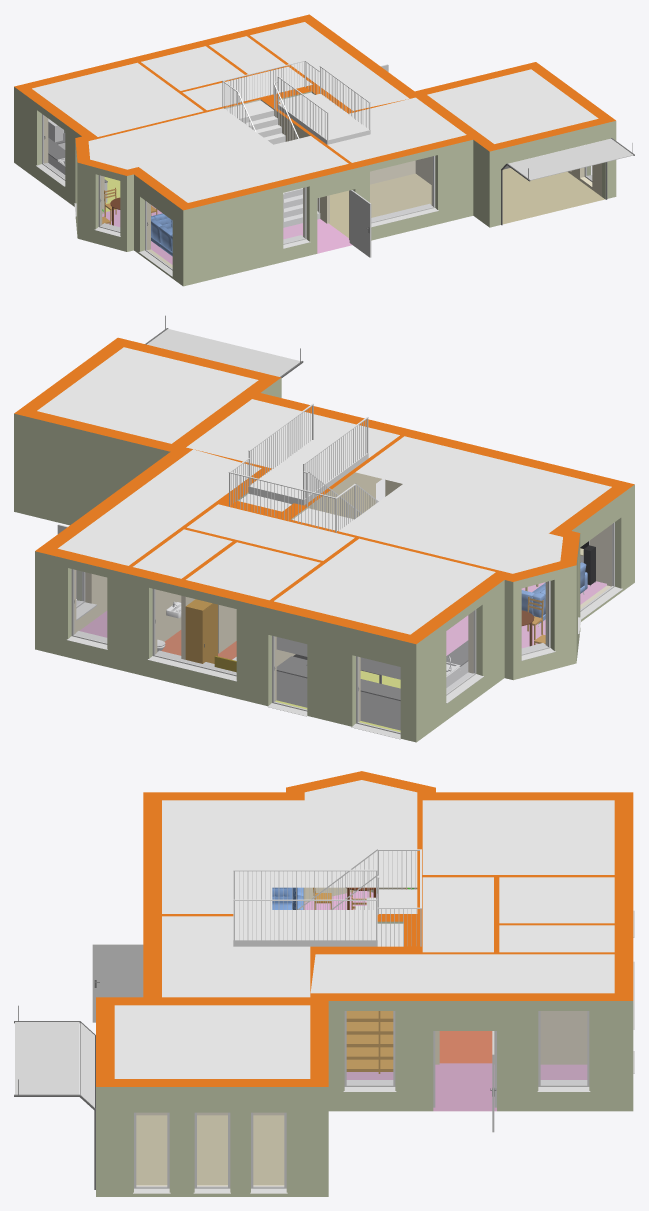
3 views of the same model, one above another, from view 1: azimuth 30°, elevation 25°; view 2: azimuth 150°, elevation 25°; view 3: azimuth 270°, elevation 25° (orthographic). The views are drawn at different scales.
Parts seen in each view (by area): view 1: ceiling room2, levelSection0 level1, ceiling room8, wall5 exterior, ceiling room19, ceiling room25, floor room8, ceiling room31, wall101 exterior, stairs83, door99, wall23 exterior (+19 smaller); view 2: ceiling room2, levelSection0 level1, ceiling room8, ceiling room19, ceiling room25, wall20 exterior, wall9 exterior, ceiling room31, wall26 exterior, wall23 exterior, stairs83, door107 (+25 smaller); view 3: ceiling room2, levelSection0 level1, ceiling room8, wall33 exterior, wall10 exterior, ceiling room19, ceiling room25, ceiling room31, stairs83, floor room8, door104, door109 (+15 smaller).
Boxes of the visible parts, bbox=[...] form: ceiling room2: bbox=[88, 108, 348, 202]; levelSection0 level1: bbox=[14, 14, 615, 210]; ceiling room8: bbox=[328, 69, 598, 162]; wall5 exterior: bbox=[183, 170, 355, 286]; ceiling room19: bbox=[32, 62, 203, 136]; ceiling room25: bbox=[141, 36, 312, 110]; floor room8: bbox=[329, 168, 604, 237]; ceiling room31: bbox=[250, 22, 409, 110]; wall101 exterior: bbox=[347, 140, 473, 240]; stairs83: bbox=[277, 66, 370, 144]; door99: bbox=[370, 156, 438, 227]; wall23 exterior: bbox=[14, 87, 81, 206]; ceiling room2: bbox=[339, 436, 611, 573]; levelSection0 level1: bbox=[14, 337, 634, 644]; ceiling room8: bbox=[37, 347, 399, 468]; ceiling room19: bbox=[274, 538, 495, 634]; ceiling room25: bbox=[133, 504, 354, 600]; wall20 exterior: bbox=[251, 604, 416, 742]; wall9 exterior: bbox=[14, 413, 170, 525]; ceiling room31: bbox=[58, 449, 261, 565]; wall26 exterior: bbox=[110, 569, 250, 701]; wall23 exterior: bbox=[416, 580, 504, 742]; stairs83: bbox=[248, 403, 368, 505]; door107: bbox=[147, 589, 236, 681]; ceiling room2: bbox=[162, 780, 417, 913]; levelSection0 level1: bbox=[96, 771, 633, 1086]; ceiling room8: bbox=[114, 916, 310, 1078]; wall33 exterior: bbox=[328, 1001, 633, 1111]; wall10 exterior: bbox=[96, 1087, 328, 1196]; ceiling room19: bbox=[422, 800, 614, 874]; ceiling room25: bbox=[422, 877, 614, 952]; ceiling room31: bbox=[310, 954, 614, 993]; stairs83: bbox=[233, 869, 377, 946]; floor room8: bbox=[136, 1115, 284, 1184]; door104: bbox=[14, 1005, 95, 1189]; door109: bbox=[537, 1011, 590, 1091].
Bounding box in the file's own units: 16.92 × 3.9 × 14.03.
